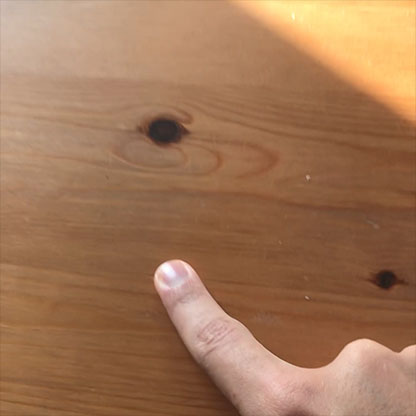fingertip: (142, 255, 202, 303)
